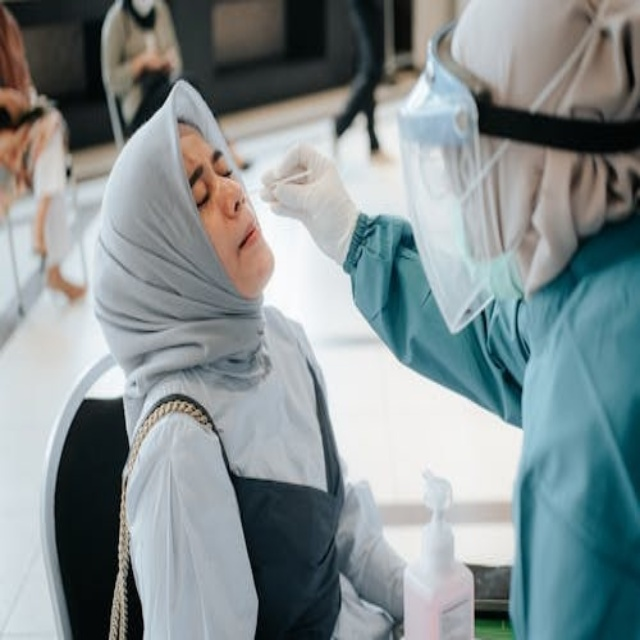Guantes: (257, 129, 362, 263)
Mascara: (420, 150, 548, 323)
Sin_gafas: (178, 135, 243, 223)
Sin_mascara: (229, 209, 269, 273)
